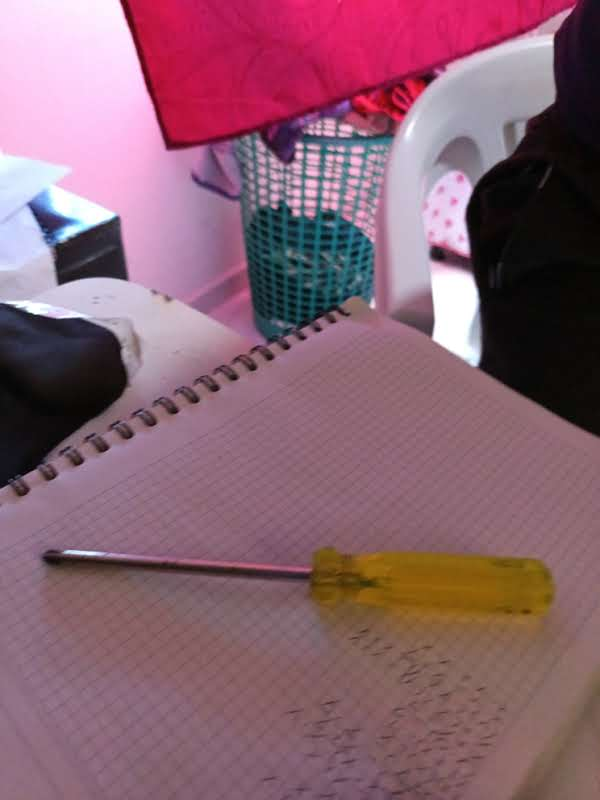Destornillador: (43, 547, 553, 614)
